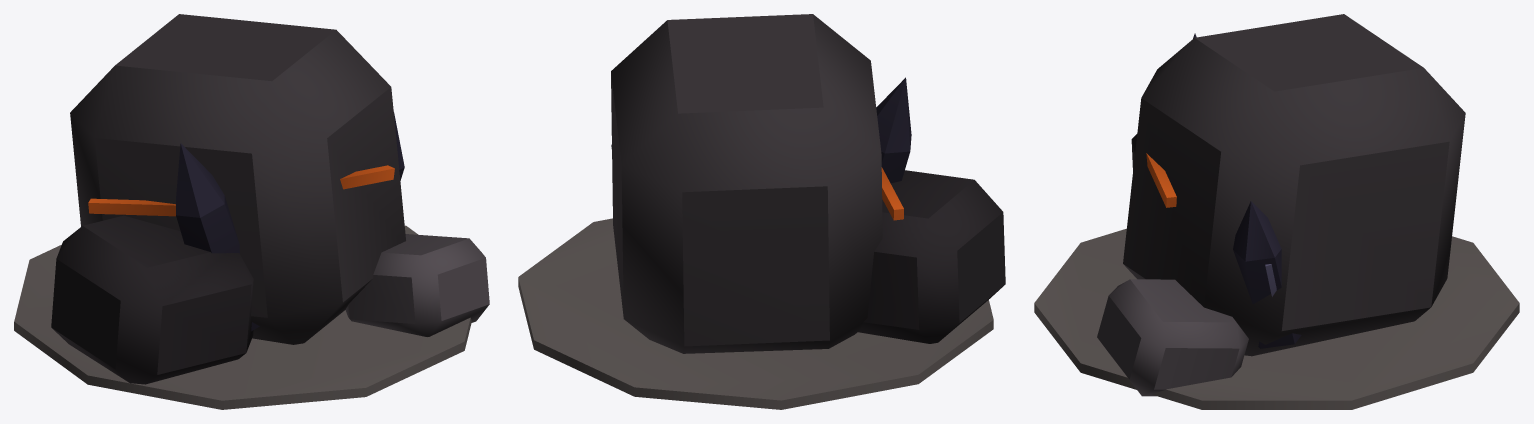
Rendered from p_rock_lava_3.glb.
The picture shows the model from 3 angles, left to right: view 1: azimuth 30°, elevation 25°; view 2: azimuth 150°, elevation 25°; view 3: azimuth 270°, elevation 25°; orthographic projection. The views are drawn at different scales.
Parts seen in each view (by area): view 1: body; view 2: body; view 3: body.
Boxes of the visible parts, x1,y1,x2,y2 form: body: [14, 14, 489, 409]; body: [518, 14, 1005, 409]; body: [1034, 14, 1519, 409].
Bounding box in the file's own units: 2.67 × 1.82 × 2.8.
